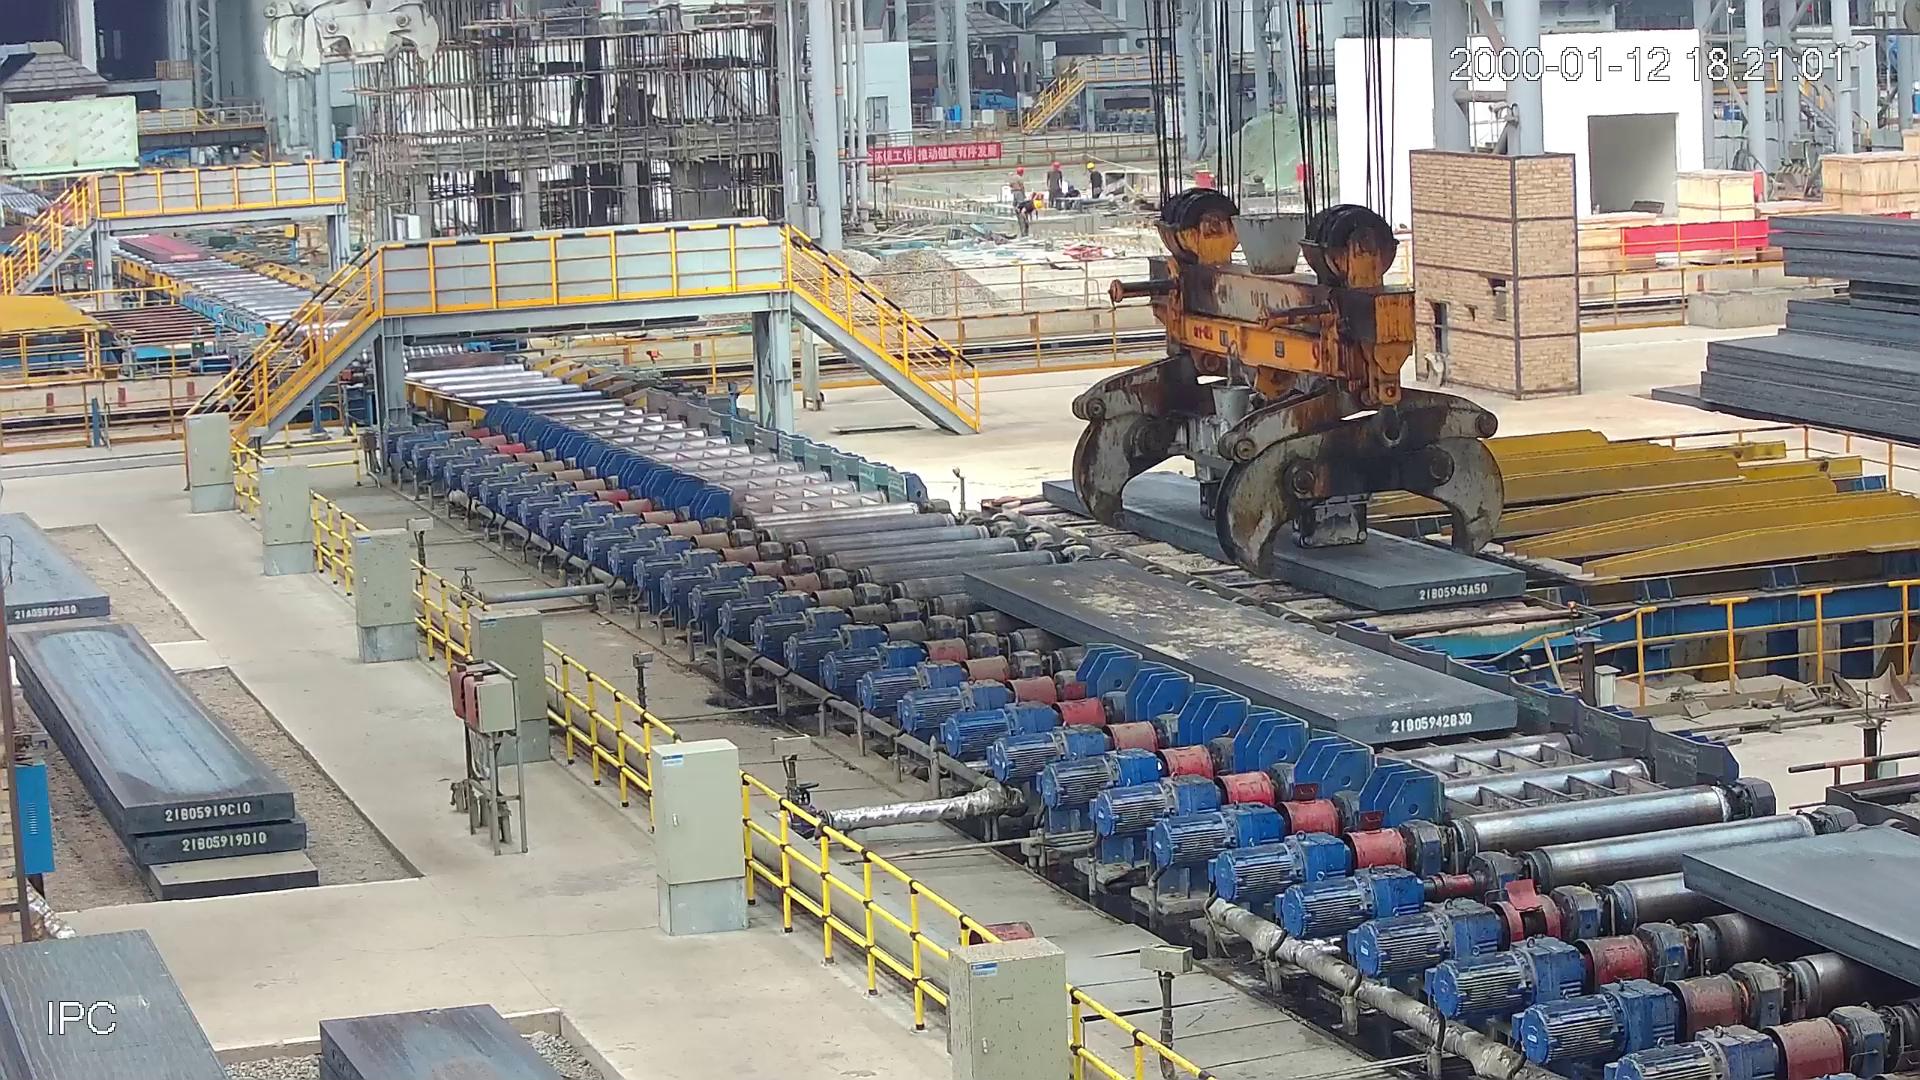craneandslab: (1034, 182, 1556, 611)
slab: (947, 550, 1523, 756), (116, 231, 215, 264)
